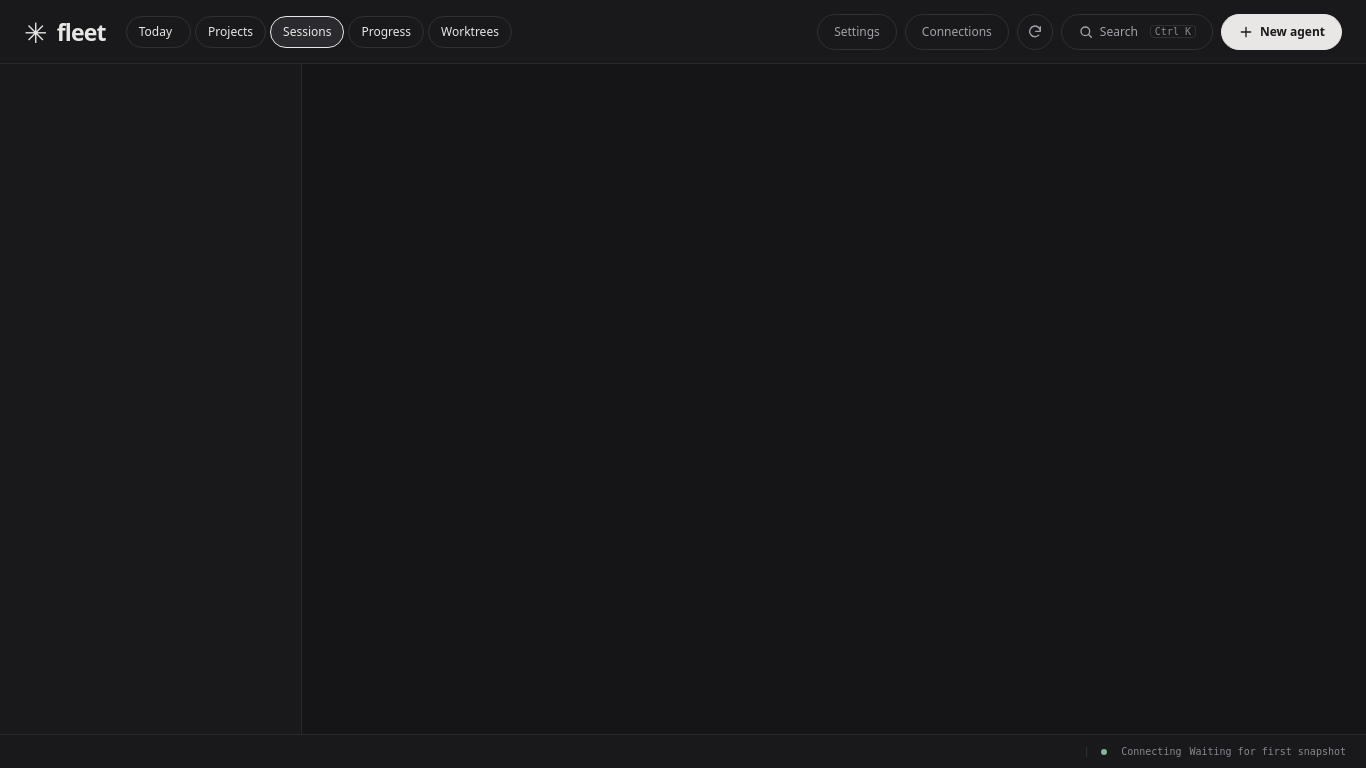
Test: launch model picker › keeps the standard choices when the list fails, says so, and retries on the next opening
Press n
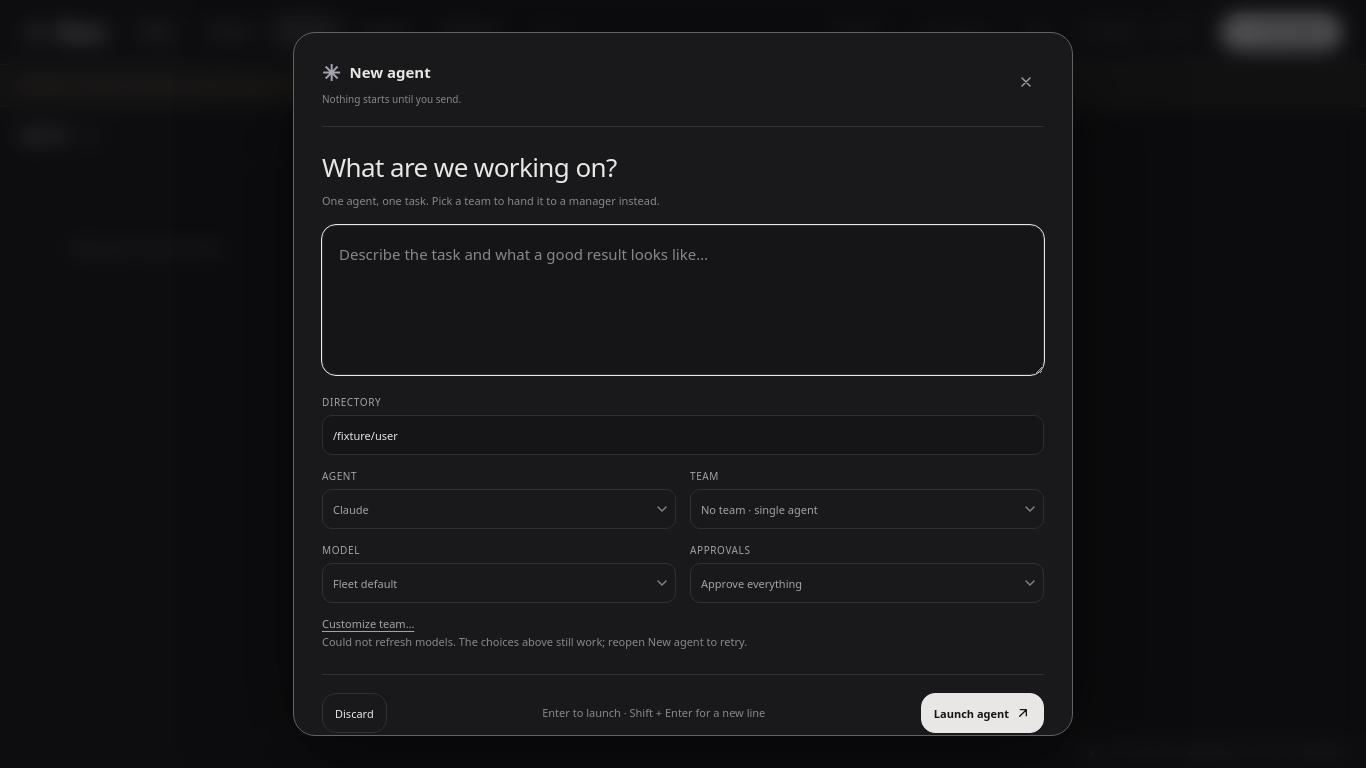
Expected: the dialog is shown, [293,32,1073,736]
Expected: the message with id "launch-model-status" shows "Could not refresh models. The choices above still work; reopen New agent to retry.", [322,634,747,649]
Select "Haiku" in the dropdown with id "launch-model" at (499, 573), box [322,543,676,603]
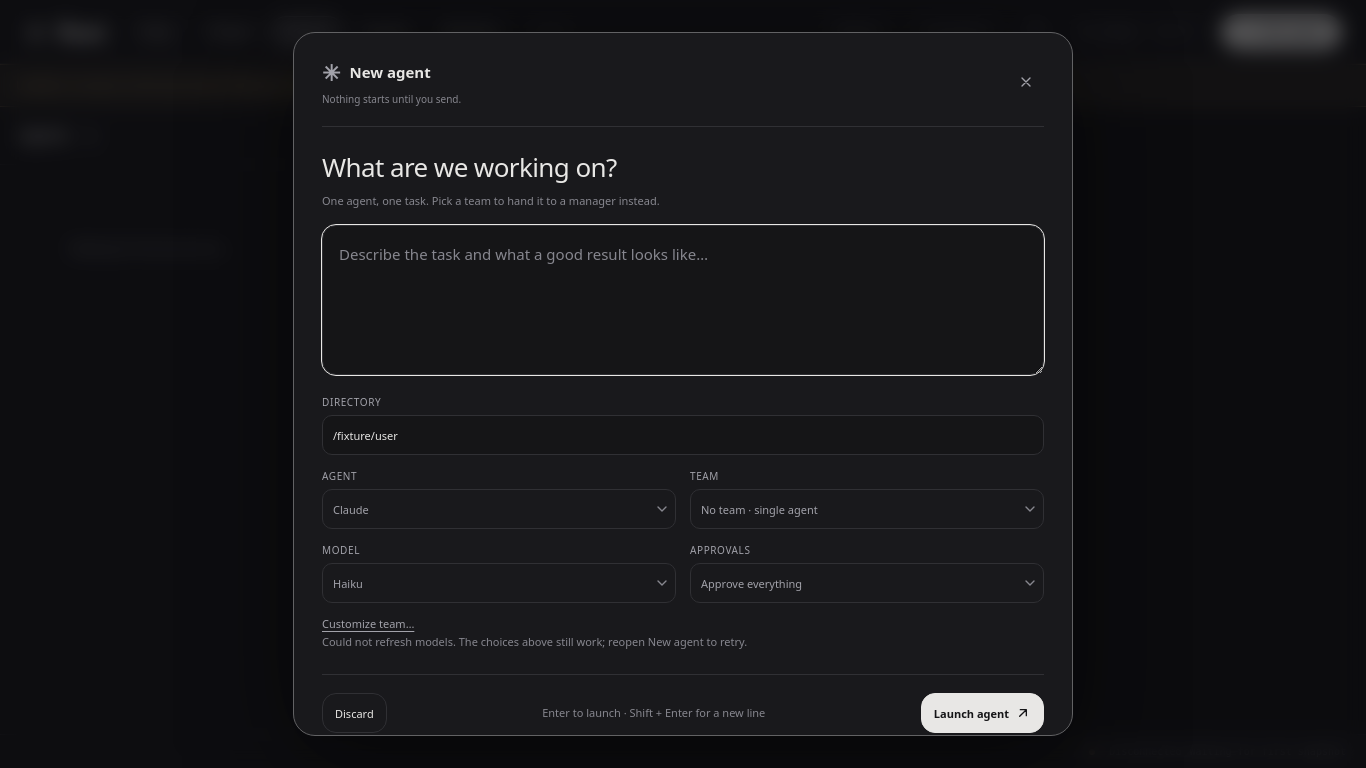
Press Escape in the text box with id "launch-prompt", box [322,225,1044,375]
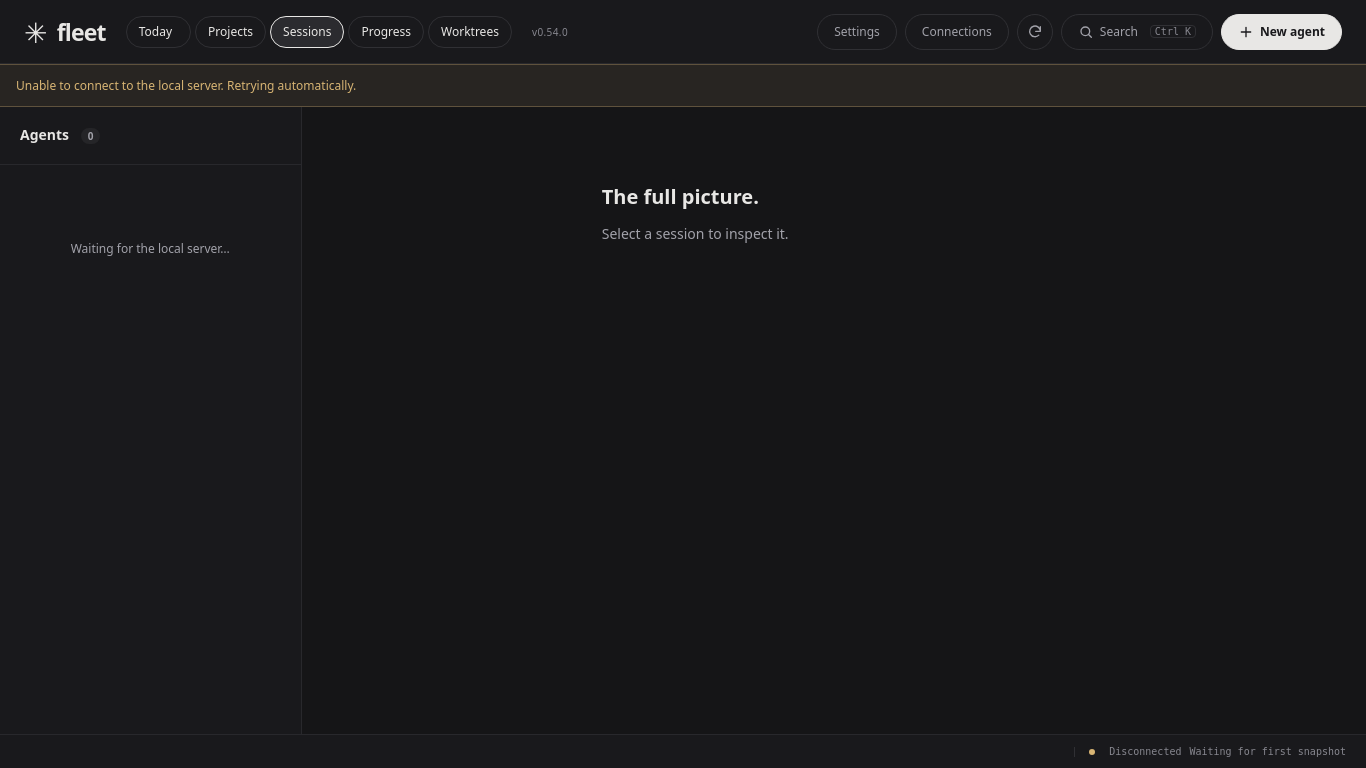
Press n
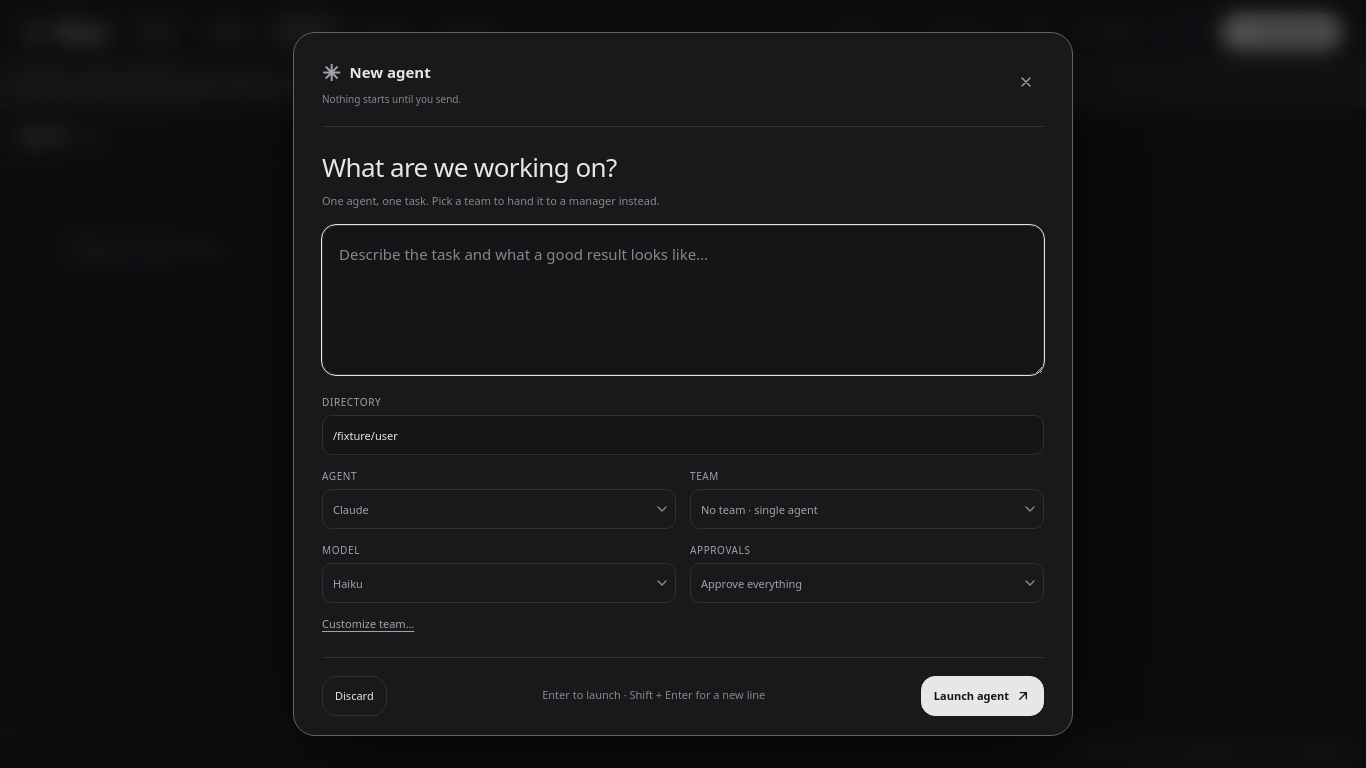
Expected: the dialog is shown, [293,32,1073,736]
Expected: the label with id "launch-model" holds "haiku", [322,543,676,603]
